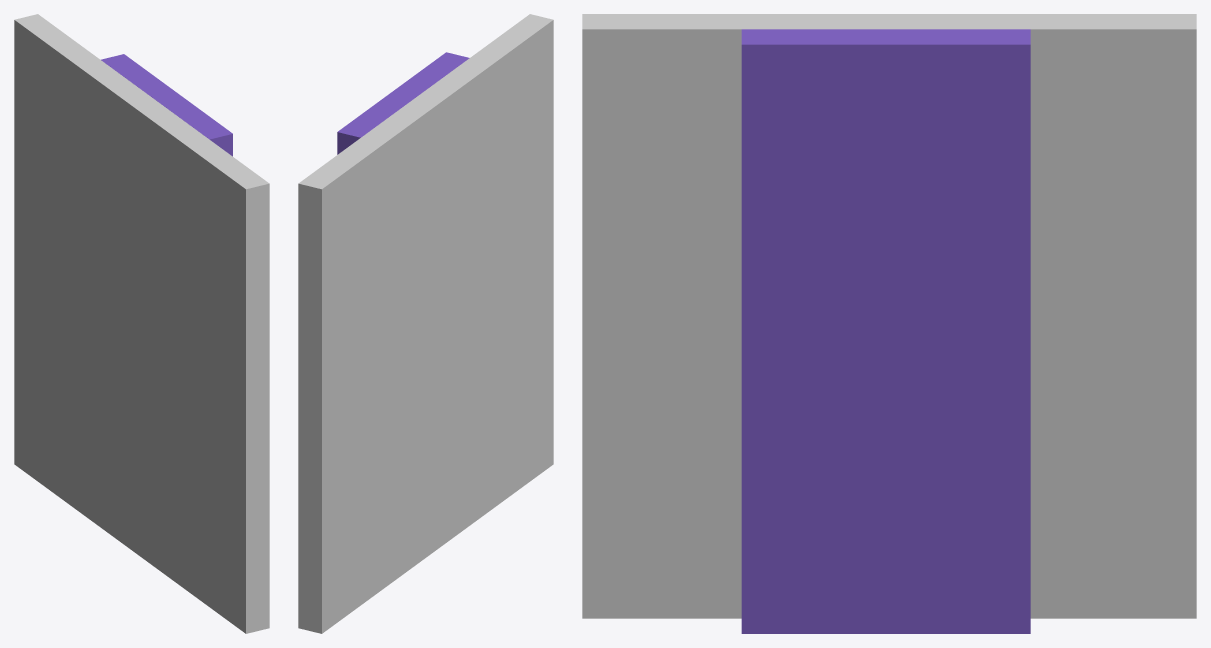
File: doorportal2.fbx
3 renders of one model, left to right at view 1: azimuth 30°, elevation 25°; view 2: azimuth 150°, elevation 25°; view 3: azimuth 270°, elevation 25°, orthographic. The views are drawn at different scales.
Visible parts, largest first — view 1: Cube, Cube.001; view 2: Cube, Cube.001; view 3: Cube, Cube.001.
Part boxes in pixels (bbox=[...]): Cube: bbox=[14, 14, 269, 633]; Cube.001: bbox=[101, 54, 232, 156]; Cube: bbox=[298, 14, 553, 633]; Cube.001: bbox=[337, 52, 469, 154]; Cube: bbox=[582, 14, 1196, 618]; Cube.001: bbox=[741, 29, 1030, 633].
Bounding box in the file's own units: 4 × 36 × 34.
